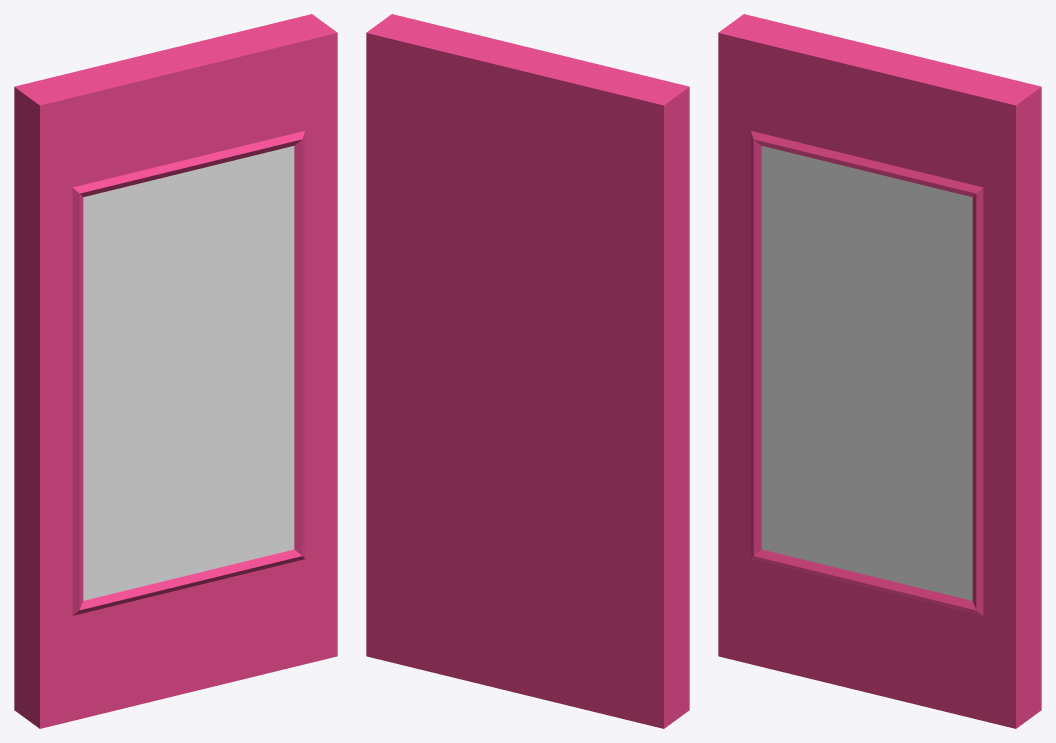
File: PinkGalleryInfo.glb
The picture shows the model from 3 angles, left to right: view 1: azimuth 30°, elevation 25°; view 2: azimuth 150°, elevation 25°; view 3: azimuth 330°, elevation 25°; orthographic projection.
Visible parts, largest first — view 1: galleryInfo_Pink; view 2: galleryInfo_Pink; view 3: galleryInfo_Pink.
Part boxes in pixels (x1,y1,x2,y2): galleryInfo_Pink: [14, 14, 337, 728]; galleryInfo_Pink: [366, 14, 689, 728]; galleryInfo_Pink: [718, 14, 1041, 728].
Size of what is drawn, in the model's own units: 2 by 4 by 0.3245.
1 material, 1 textured.
